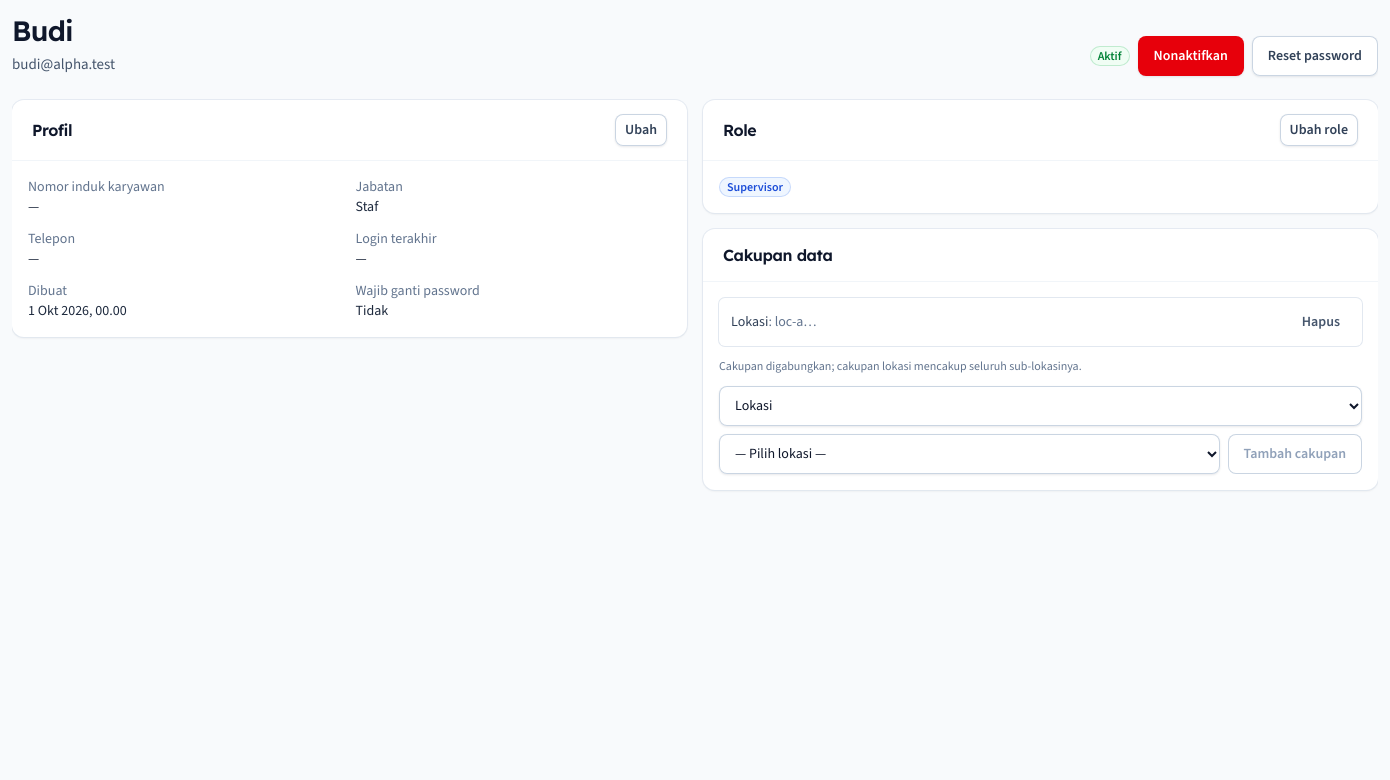
Test case: UserDetailPage: rejected access changes › keeps the role editor open with the error when a role change is refused
This screenshot has width=1390, height=780.
Click the button "Ubah role": (1319, 130) [1280,114,1358,146]
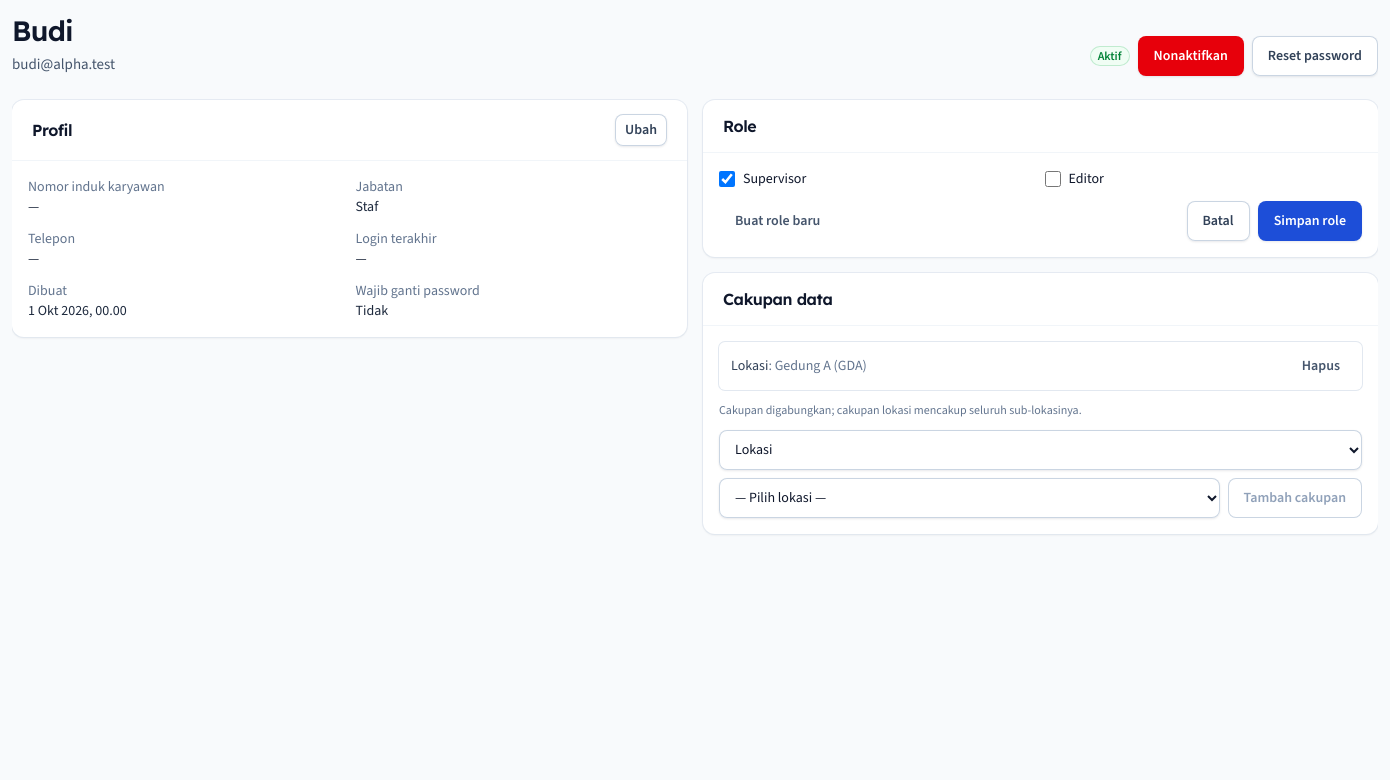
Click the checkbox labelled "Editor": (1052, 179) [1044,171,1060,187]
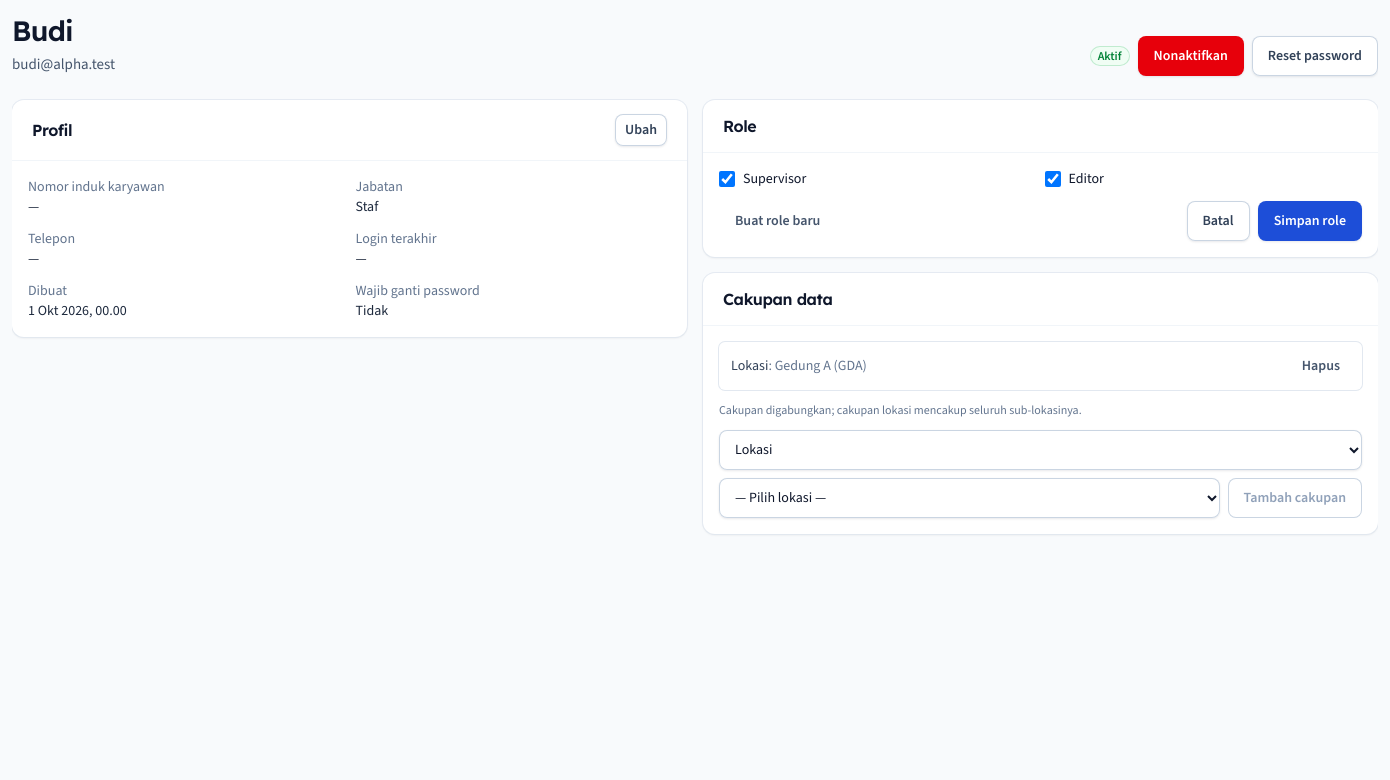
Click the button "Simpan role": (1310, 221) [1258,201,1362,241]
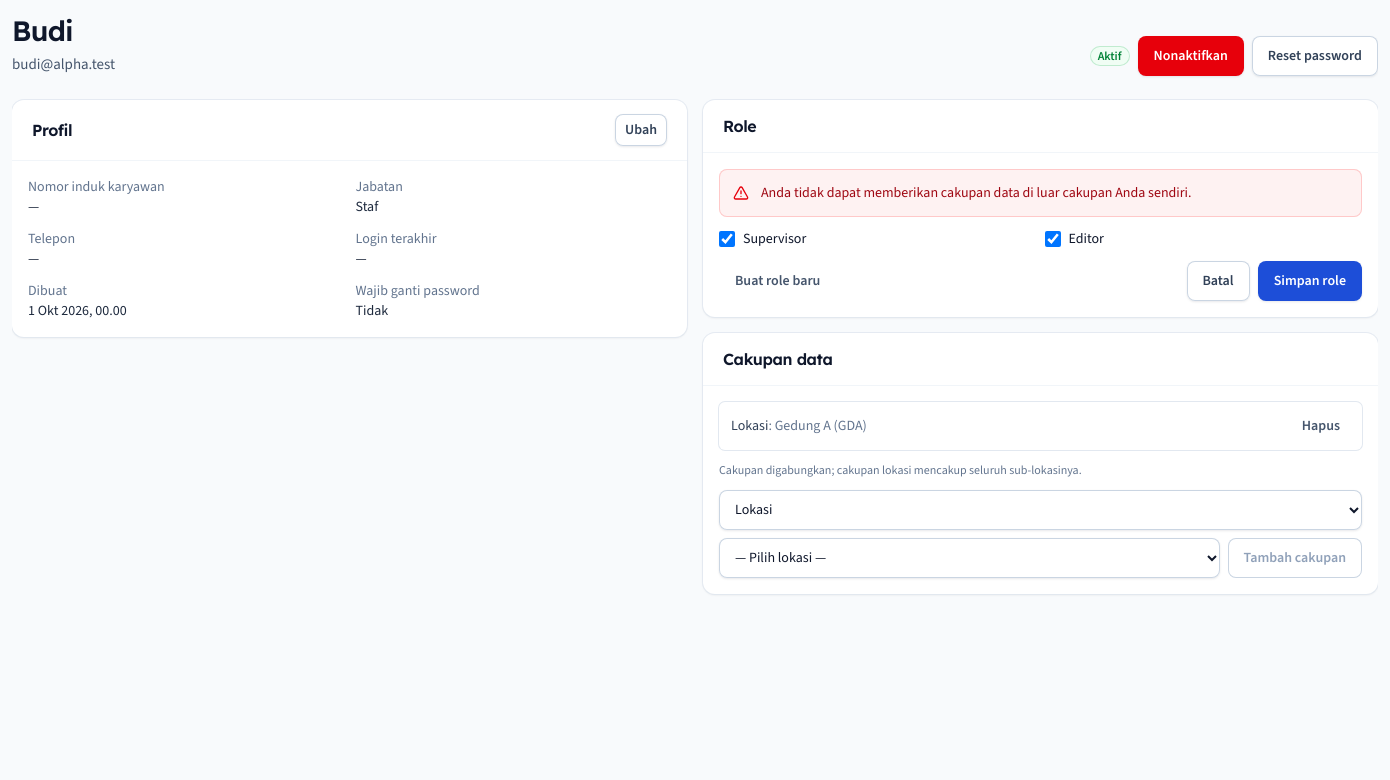
Check: the button "Simpan role" is shown, box [1258,261,1362,301]
Check: the message reads "Anda tidak dapat memberikan cakupan data di luar cakupan Anda sendiri.", box [761,183,1192,202]
